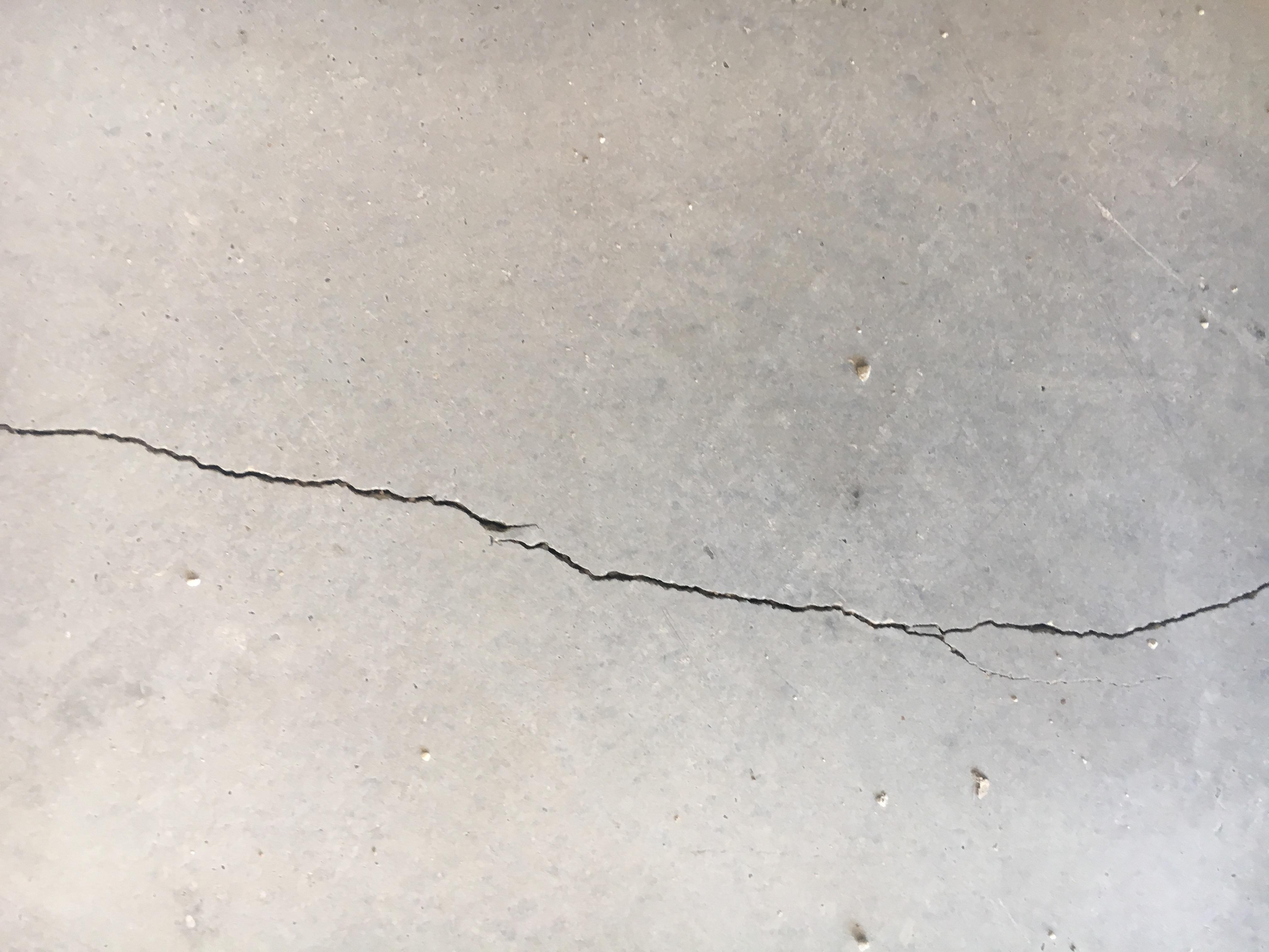Horizontal Settlement Crack: (3, 416, 1266, 680)
